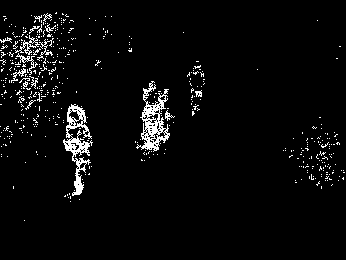person: (60, 102, 94, 202), (186, 57, 206, 118)
